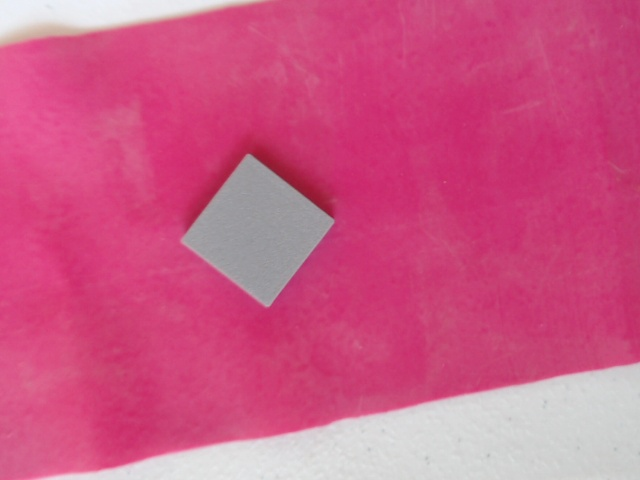Defective: (176, 149, 340, 315)
